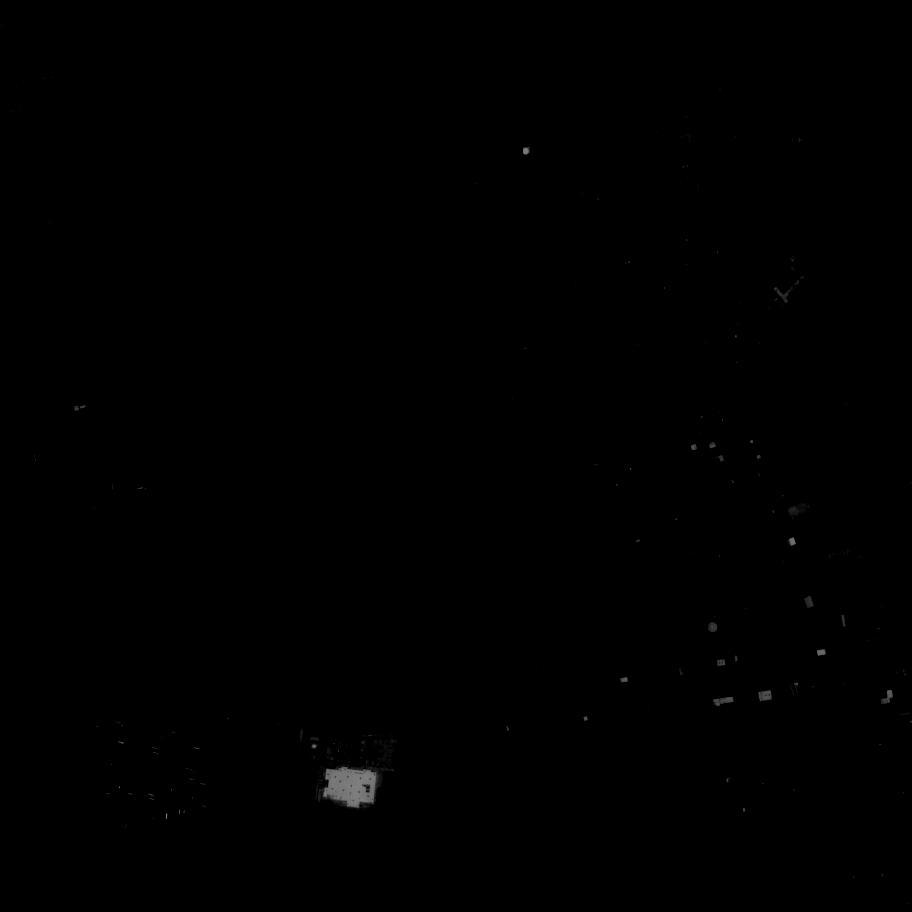storage-tank: (524, 147, 530, 155)
